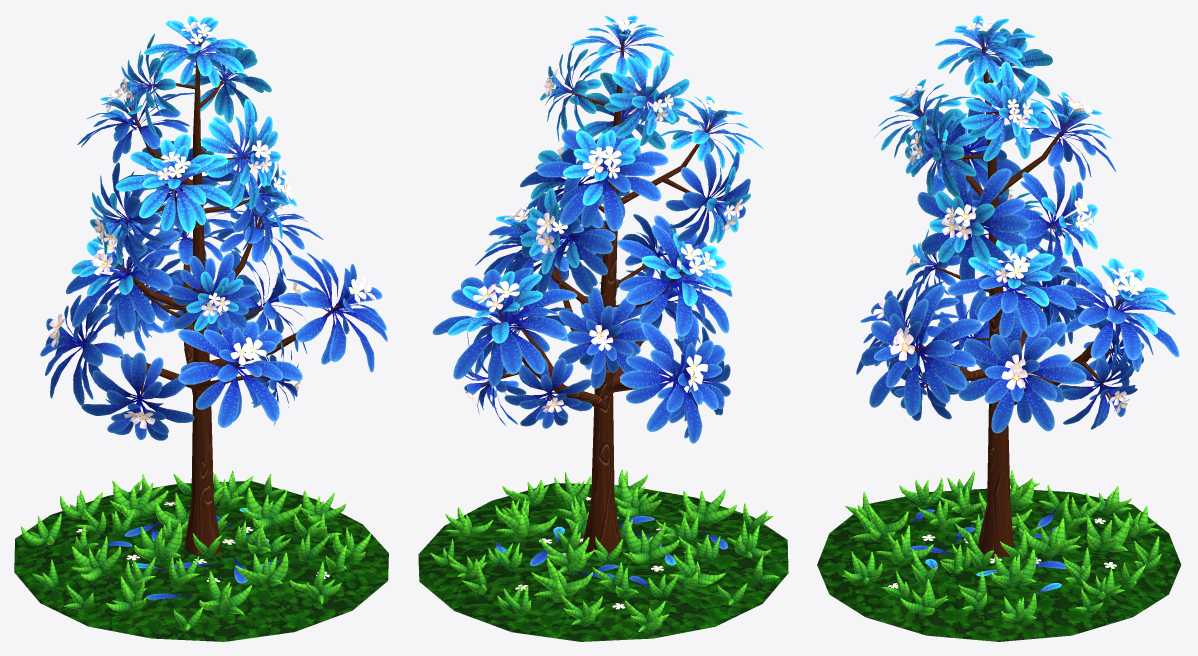
File: NAT_TreePainted.glb
The picture shows the model from 3 angles, left to right: view 1: azimuth 30°, elevation 25°; view 2: azimuth 150°, elevation 25°; view 3: azimuth 270°, elevation 25°; orthographic projection. The views are drawn at different scales.
Visible parts, largest first — view 1: Object_3, Object_2; view 2: Object_3, Object_2; view 3: Object_3, Object_2.
Part boxes in pixels (x1,y1,x2,y2): Object_3: (21,15,387,630); Object_2: (14,481,388,641); Object_3: (430,15,779,632); Object_2: (418,483,788,641); Object_3: (841,15,1179,622); Object_2: (817,488,1180,641).
Size of the model in its own units: 3.06 by 5 by 3.08.
Materials: 2 (2 with a texture image).
